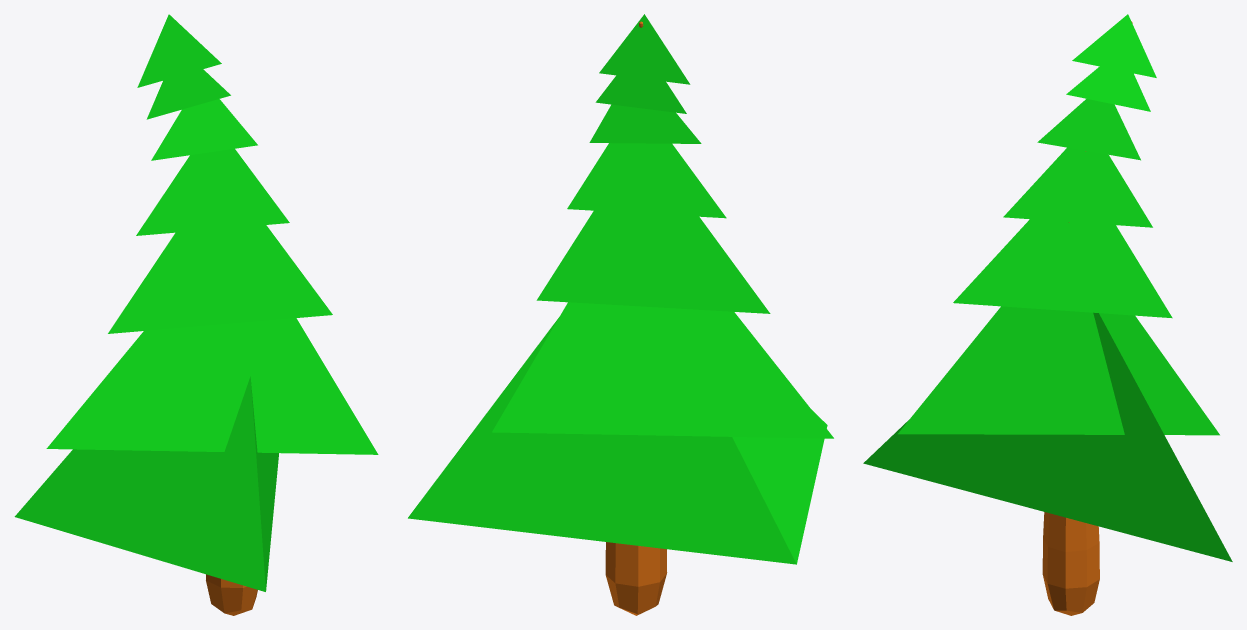
File: tree.glb
3 renders of one model, left to right at view 1: azimuth 30°, elevation 25°; view 2: azimuth 150°, elevation 25°; view 3: azimuth 270°, elevation 25°, orthographic. The views are drawn at different scales.
Parts seen in each view (by area): view 1: Leaves, trunk-col; view 2: Leaves, trunk-col; view 3: Leaves, trunk-col.
Boxes of the visible parts, left/top/right/bottom form: Leaves: left=14, top=14, right=378, bottom=591; trunk-col: left=206, top=574, right=257, bottom=615; Leaves: left=408, top=14, right=833, bottom=564; trunk-col: left=605, top=21, right=667, bottom=615; Leaves: left=863, top=14, right=1232, bottom=561; trunk-col: left=1042, top=21, right=1132, bottom=615.
Bounding box in the file's own units: 12.75 × 22.64 × 12.98.
